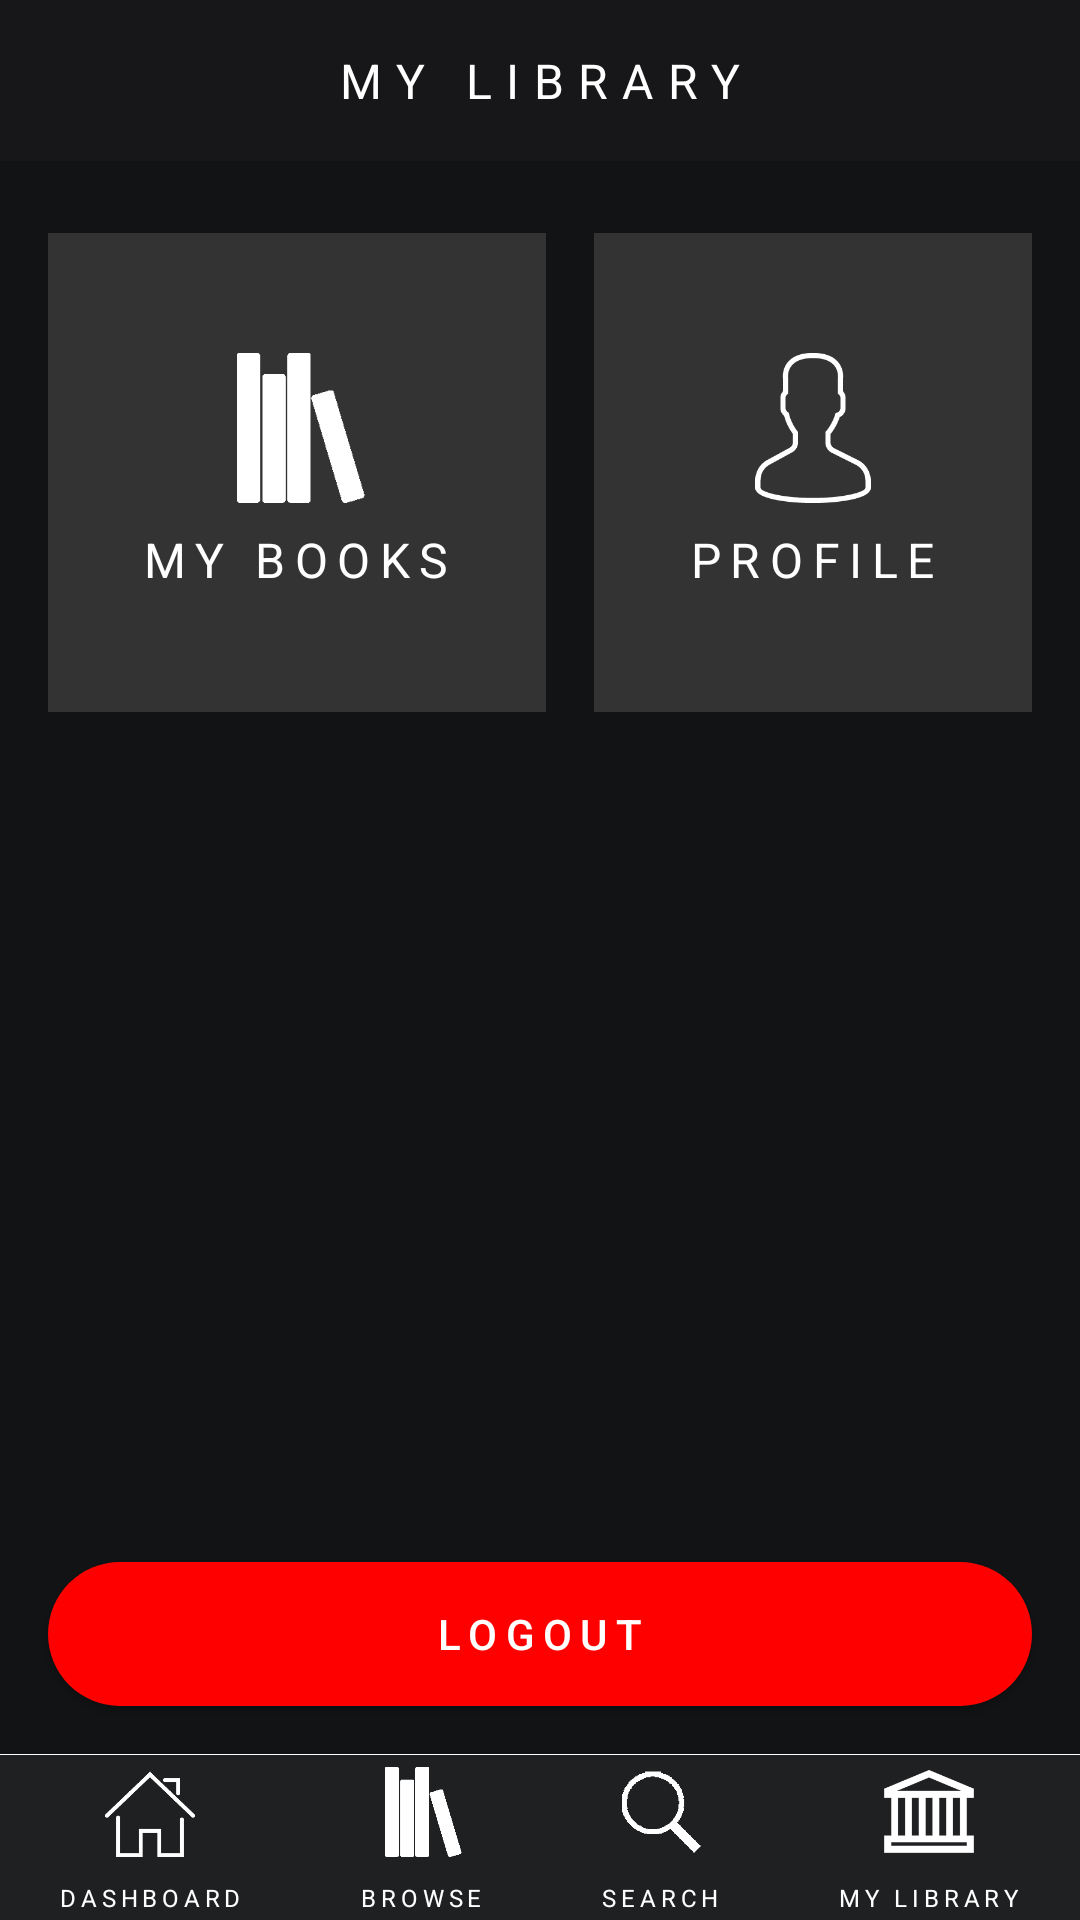

Icons on this 1080 × 1920 Android screen, each with its box as box=[x1, y1, x2, y2]:
user: box=[755, 353, 871, 503]
